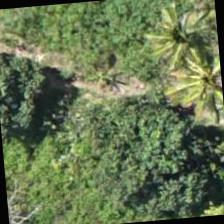Kelapa_Sawit: (132, 0, 223, 89), (167, 38, 223, 133)
